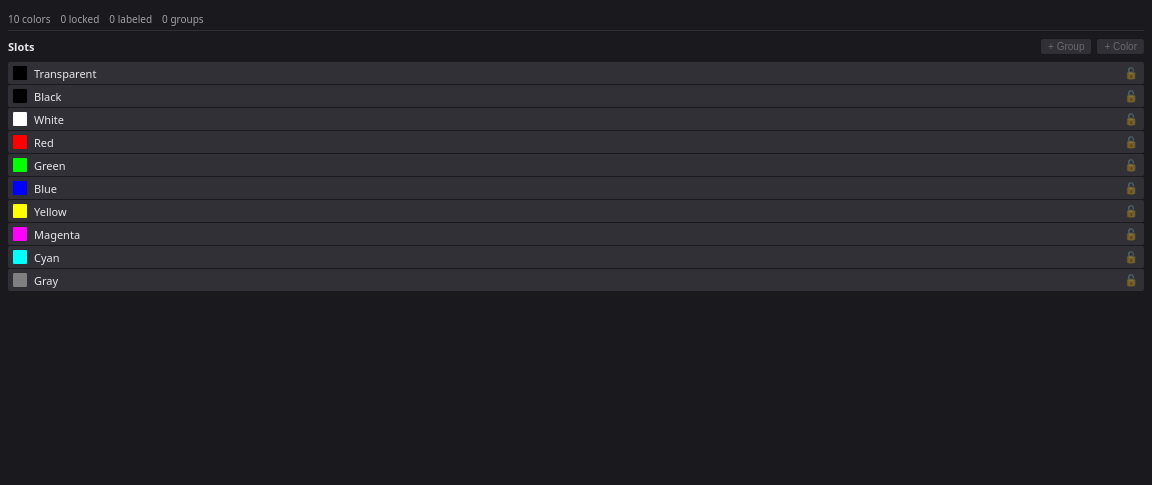
it: PalettePropsPanel › shows slot detail when slot is clicked
The image size is (1152, 485).
Step 1. Click the element with test id "palette-slot-1" → click(576, 96), box [8,85,1144,107]
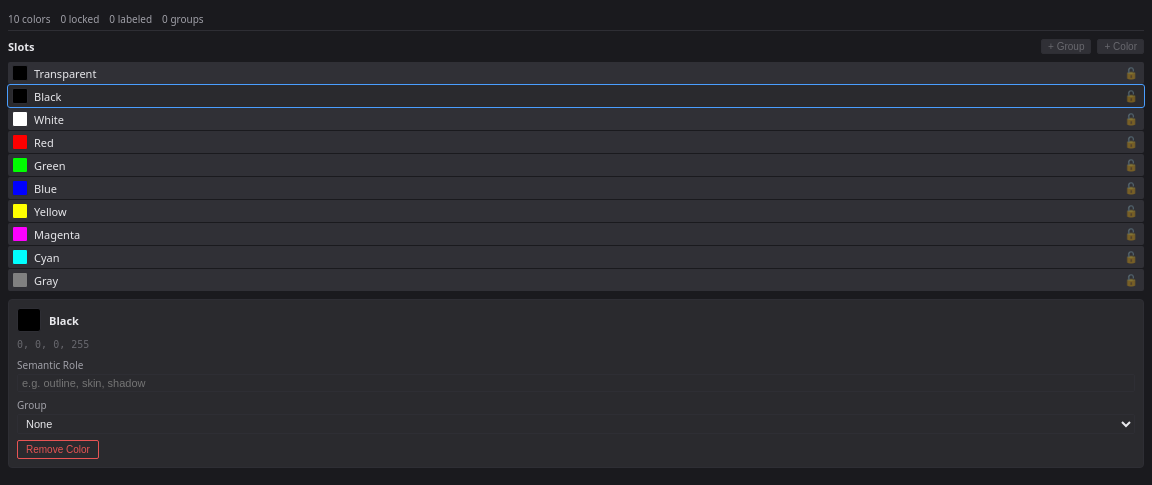
Expected: the element with test id "palette-slot-detail" is shown, [8,299,1144,468]
